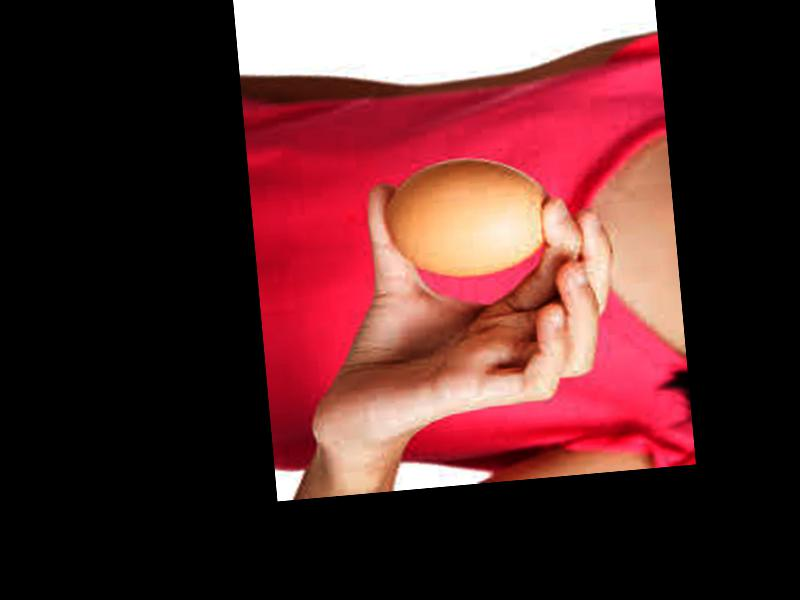Eggs: (383, 152, 558, 282)
